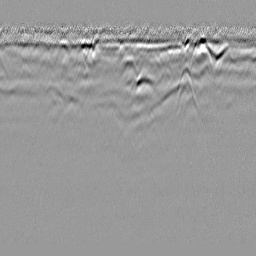cavity: (118, 53, 139, 79)
